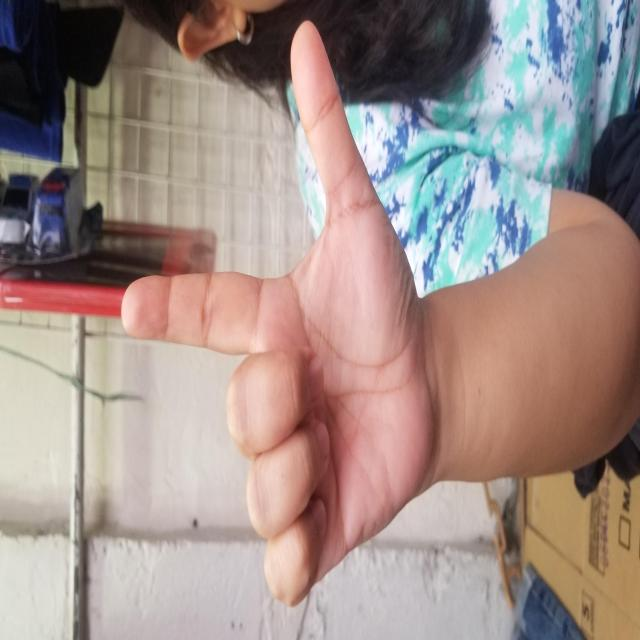L: (35, 122, 622, 436)
